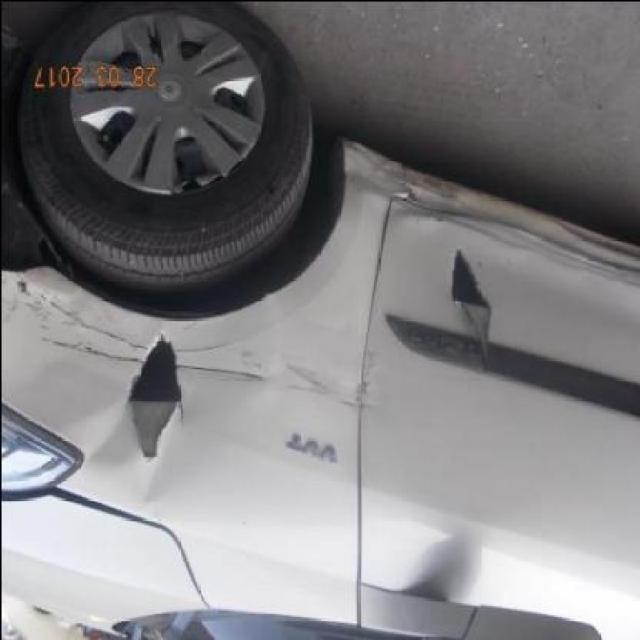damage: (346, 146, 640, 286), (180, 337, 377, 410), (0, 273, 139, 369), (120, 332, 182, 462), (442, 252, 497, 377)
